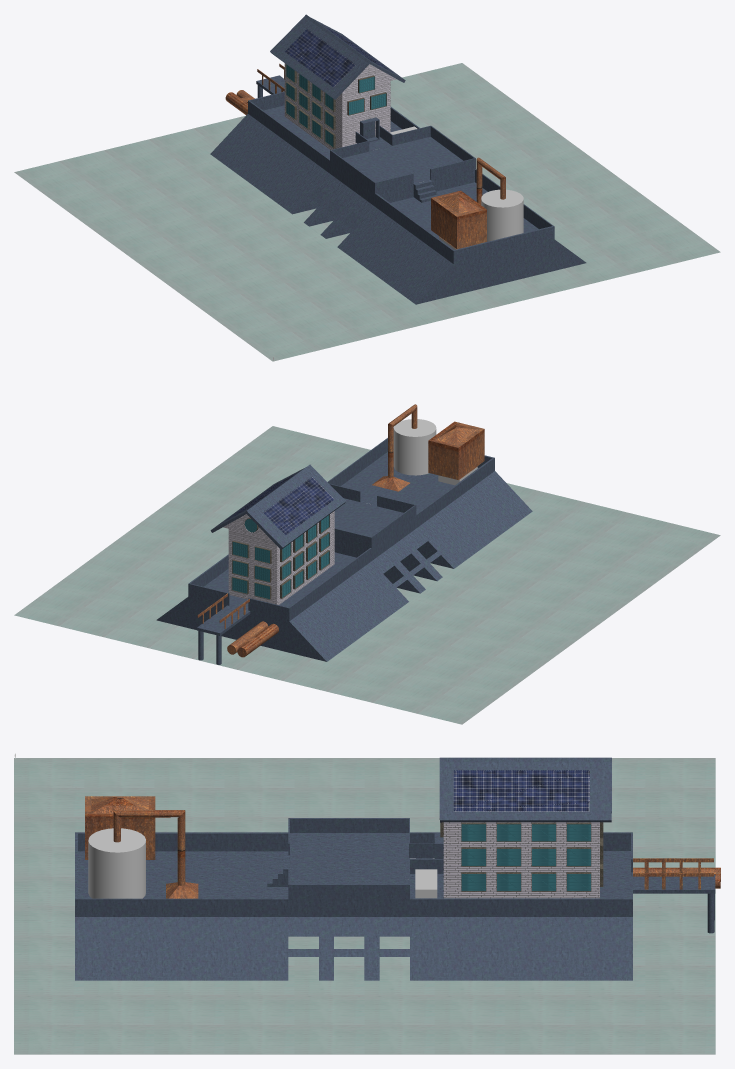
Rendered from Gezeitenkraftwerk_stufe_1.fbx.
3 views of the same model, one above another, from view 1: azimuth 30°, elevation 25°; view 2: azimuth 150°, elevation 25°; view 3: azimuth 270°, elevation 25° (orthographic). The views are drawn at different scales.
Parts seen in each view (by area): view 1: GezKW_1_1; view 2: GezKW_1_1; view 3: GezKW_1_1.
Boxes of the visible parts, left/top/right/bottom form: GezKW_1_1: left=14, top=14, right=720, bottom=361; GezKW_1_1: left=14, top=404, right=720, bottom=724; GezKW_1_1: left=14, top=753, right=720, bottom=1054.
Size of the model in its own units: 200 by 52.91 by 202.
